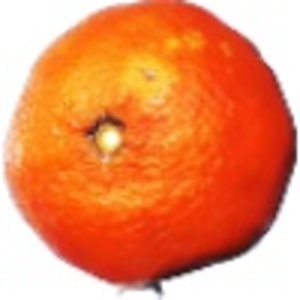tangerina: (2, 1, 300, 300)
